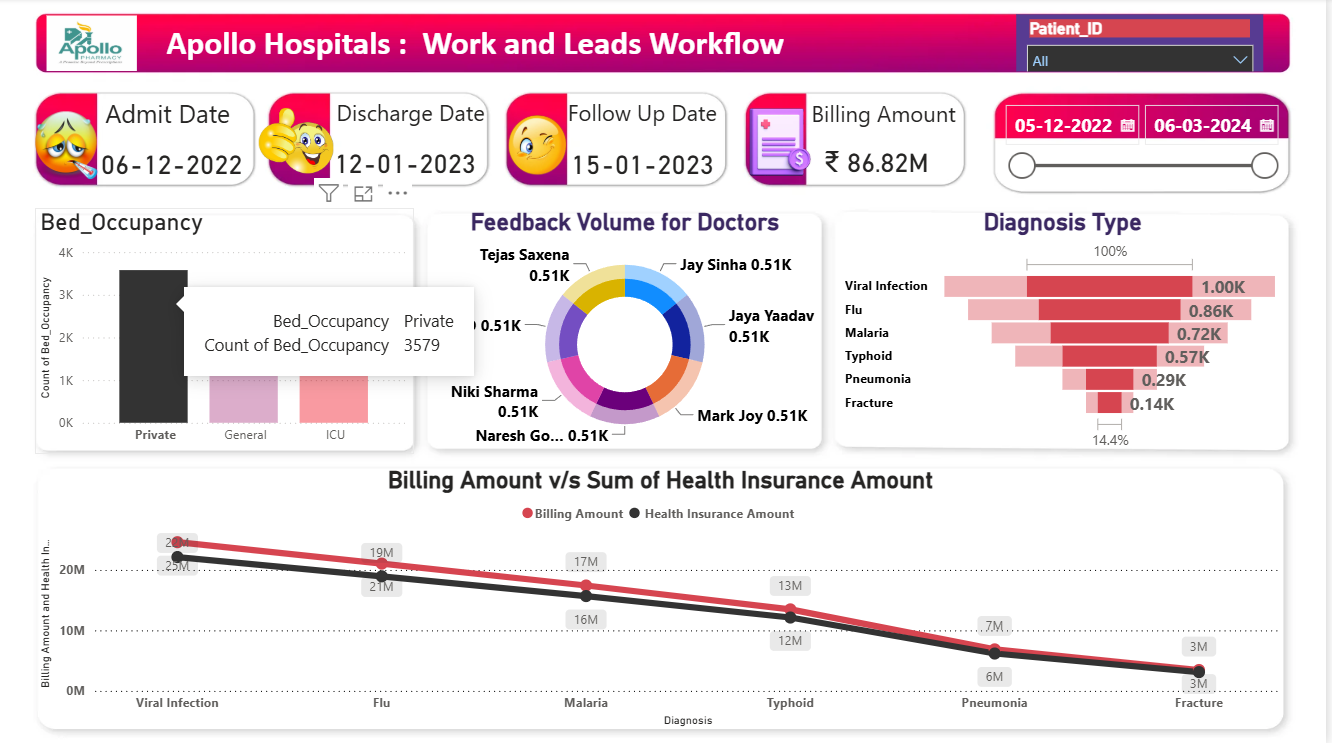

Layout of this report page (visuals, bound fields, positions):
{"tool":"powerbi","page":{"name":"Page 1","canvas":[1280,720],"ordinal":0},"visuals":[{"type":"image","box":[21.7,11.7,133.3,63.3],"z":0},{"type":"textbox","box":[155.6,18.9,673.3,50],"z":1000},{"type":"slicer","fields":{"Values":["Sheet1.Patient_ID"]},"box":[981.2,16.2,238.8,55],"z":2000},{"type":"card","fields":{"Values":["Min(Sheet1.Admit_Date)"]},"box":[63.9,108.6,203.9,103.8],"z":3000},{"type":"textbox","box":[97,91,171,58],"z":4000},{"type":"textbox","box":[320,90.9,171.8,57.3],"z":5000},{"type":"textbox","box":[542.7,90.9,170.9,58.2],"z":6000},{"type":"card","fields":{"Values":["Min(Sheet1.Discharge_Date)"]},"box":[305,128,172,63],"z":7000},{"type":"card","fields":{"Values":["Min(Sheet1.Followup Date)"]},"box":[527,129,186,61],"z":8000},{"type":"textbox","box":[778.8,91.2,160,57.5],"z":9000},{"type":"card","fields":{"Values":["Sum(Sheet1.Billing Amount)"]},"box":[752.5,127.5,186.2,61.2],"z":10000},{"type":"slicer","fields":{"Values":["Sheet1.Admit_Date"]},"box":[957.5,92.5,283.8,97.5],"z":11000},{"type":"columnChart","title":" Bed_Occupancy","fields":{"Category":["Sheet1.Bed_Occupancy"],"Y":["CountNonNull(Sheet1.Bed_Occupancy)"]},"box":[33.8,202.5,365,237.5],"z":12000},{"type":"donutChart","title":"Feedback Volume for Doctors","fields":{"Category":["Sheet1.Doctor"],"Y":["CountNonNull(Sheet1.Doctor)"]},"box":[411.2,202.5,383.8,237.5],"z":13000},{"type":"funnel","title":"Diagnosis Type","fields":{"Category":["Sheet1.Diagnosis"],"Y":["CountNonNull(Sheet1.Diagnosis)"]},"box":[811.2,202.5,430,237.5],"z":14000},{"type":"lineChart","title":" Billing Amount v/s Sum of Health Insurance Amount","fields":{"Category":["Sheet1.Diagnosis"],"Y":["Sum(Sheet1.Billing Amount)","Sum(Sheet1.Health Insurance Amount)"]},"box":[33.8,451.2,1207.5,257.5],"z":15000},{"type":"image","box":[9,84,111,106],"z":16000},{"type":"image","box":[245,96,82,82],"z":17000},{"type":"image","box":[484,101,70,81],"z":18000},{"type":"image","box":[710.9,77.3,80,123.6],"z":19000}]}

Visuals, with their boxes in screenshot pixels (x1, y1, x2, y2), scaled from the page's 1280x720 canvas onto the 1332x743 screenshot:
image: l=23, t=12, r=161, b=77
textbox: l=162, t=20, r=863, b=71
slicer - Sheet1.Patient_ID: l=1021, t=17, r=1270, b=73
card - Min(Sheet1.Admit_Date): l=66, t=112, r=279, b=219
textbox: l=101, t=94, r=279, b=154
textbox: l=333, t=94, r=512, b=153
textbox: l=565, t=94, r=743, b=154
card - Min(Sheet1.Discharge_Date): l=317, t=132, r=496, b=197
card - Min(Sheet1.Followup Date): l=548, t=133, r=742, b=196
textbox: l=810, t=94, r=977, b=153
card - Sum(Sheet1.Billing Amount): l=783, t=132, r=977, b=195
slicer - Sheet1.Admit_Date: l=996, t=95, r=1292, b=196
" Bed_Occupancy" columnChart: l=35, t=209, r=415, b=454
"Feedback Volume for Doctors" donutChart: l=428, t=209, r=827, b=454
"Diagnosis Type" funnel: l=844, t=209, r=1292, b=454
" Billing Amount v/s Sum of Health Insurance Amount" lineChart: l=35, t=466, r=1292, b=731
image: l=9, t=87, r=125, b=196
image: l=255, t=99, r=340, b=184
image: l=504, t=104, r=577, b=188
image: l=740, t=80, r=823, b=207
